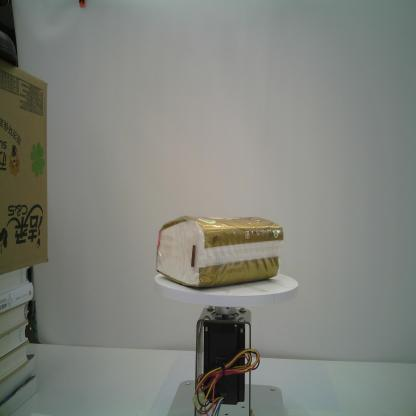Tissue: (156, 214, 284, 288)
